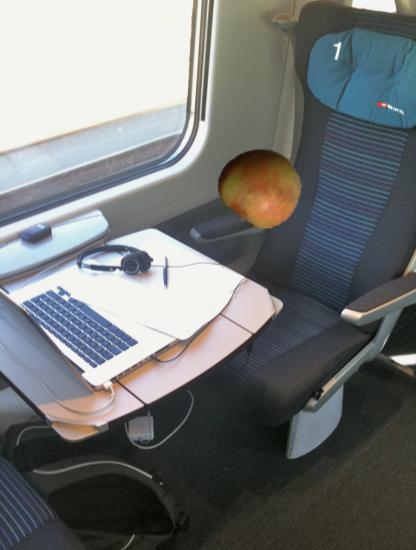Apple: (220, 146, 302, 228)
